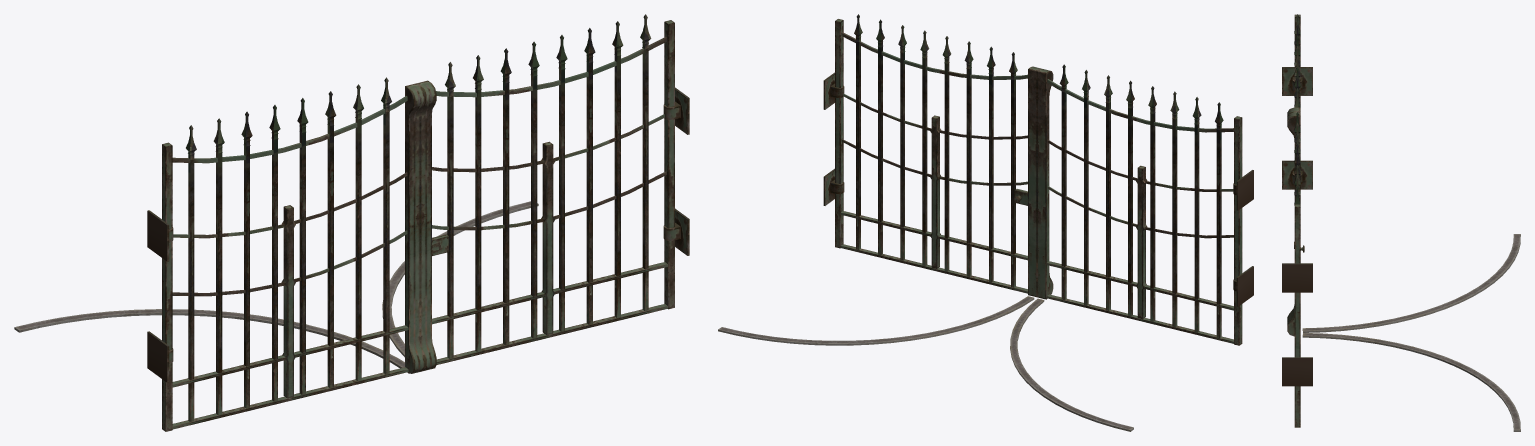
Rendered from Garden_Gate_Flaps.FBX.
The picture shows the model from 3 angles, left to right: view 1: azimuth 30°, elevation 25°; view 2: azimuth 150°, elevation 25°; view 3: azimuth 270°, elevation 25°; orthographic projection. The views are drawn at different scales.
Parts seen in each view (by area): view 1: Garden_Gate_Flap_Base_R (×2), Garden_Gate_Flap_L, Garden_Gate_Flap_Rail_L, Garden_Gate_Flap_Base_L, Garden_Gate_Flap_Rail_R; view 2: Garden_Gate_Flap_Base_R (×2), Garden_Gate_Flap_L, Garden_Gate_Flap_Rail_R, Garden_Gate_Flap_Rail_L, Garden_Gate_Flap_Base_L; view 3: Garden_Gate_Flap_Base_R (×2), Garden_Gate_Flap_Rail_L, Garden_Gate_Flap_Rail_R, Garden_Gate_Flap_Base_L, Garden_Gate_Flap_L.
Part boxes in pixels (x1,y1,x2,y2): Garden_Gate_Flap_Base_R (×2): [417, 14, 689, 370]; Garden_Gate_Flap_L: [162, 77, 425, 431]; Garden_Gate_Flap_Rail_L: [14, 309, 404, 368]; Garden_Gate_Flap_Base_L: [147, 210, 173, 382]; Garden_Gate_Flap_Rail_R: [382, 201, 538, 357]; Garden_Gate_Flap_Base_R (×2): [823, 14, 1041, 297]; Garden_Gate_Flap_L: [1037, 64, 1242, 345]; Garden_Gate_Flap_Rail_R: [718, 296, 1034, 345]; Garden_Gate_Flap_Rail_L: [1010, 298, 1133, 431]; Garden_Gate_Flap_Base_L: [1233, 170, 1253, 306]; Garden_Gate_Flap_Base_R (×2): [1282, 111, 1312, 427]; Garden_Gate_Flap_Rail_L: [1302, 234, 1520, 332]; Garden_Gate_Flap_Rail_R: [1302, 333, 1520, 431]; Garden_Gate_Flap_Base_L: [1282, 67, 1312, 189]; Garden_Gate_Flap_L: [1287, 14, 1300, 320].
Bounding box in the file's own units: 546 × 302 × 279.
